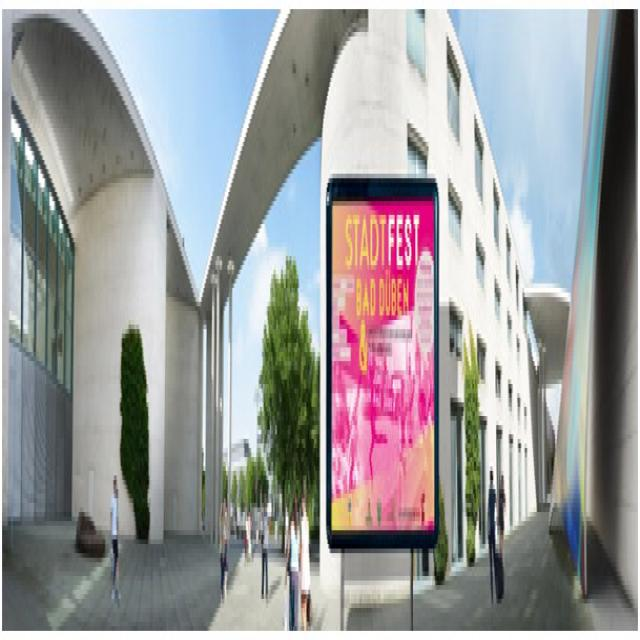Werbetafel frei: (320, 127, 440, 569)
